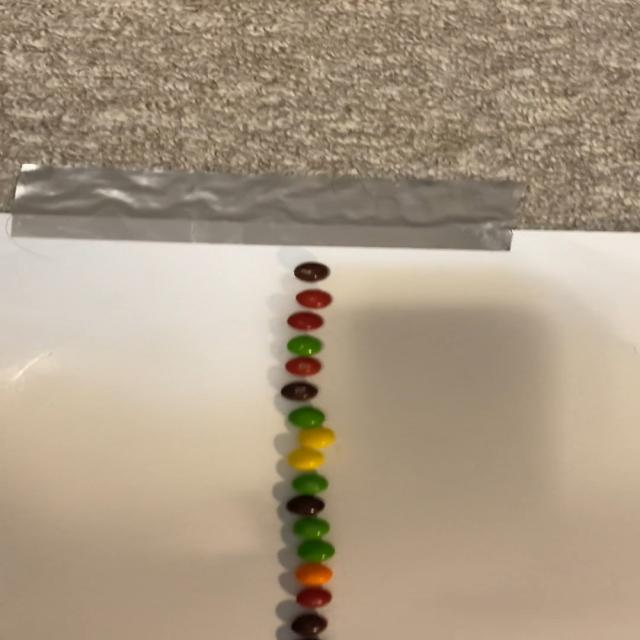smartie: (294, 564, 332, 588), (287, 447, 324, 471), (297, 427, 335, 450), (297, 541, 334, 564), (292, 518, 329, 540), (290, 615, 327, 637), (287, 407, 324, 428), (286, 335, 322, 356), (291, 475, 327, 496), (284, 357, 321, 377), (296, 588, 331, 609), (280, 382, 318, 401), (293, 262, 329, 282), (296, 289, 332, 308), (287, 312, 323, 331)
